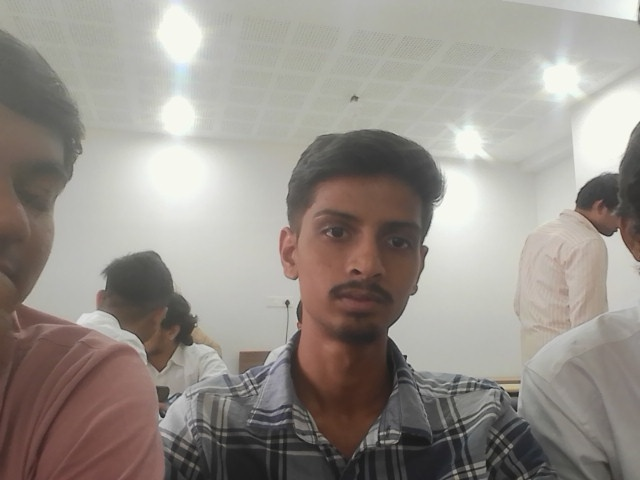light_on: (151, 87, 203, 133), (446, 119, 489, 155), (537, 64, 558, 89), (629, 6, 640, 25)
person: (0, 20, 165, 478), (517, 109, 639, 478), (511, 178, 616, 383), (138, 290, 231, 420)
